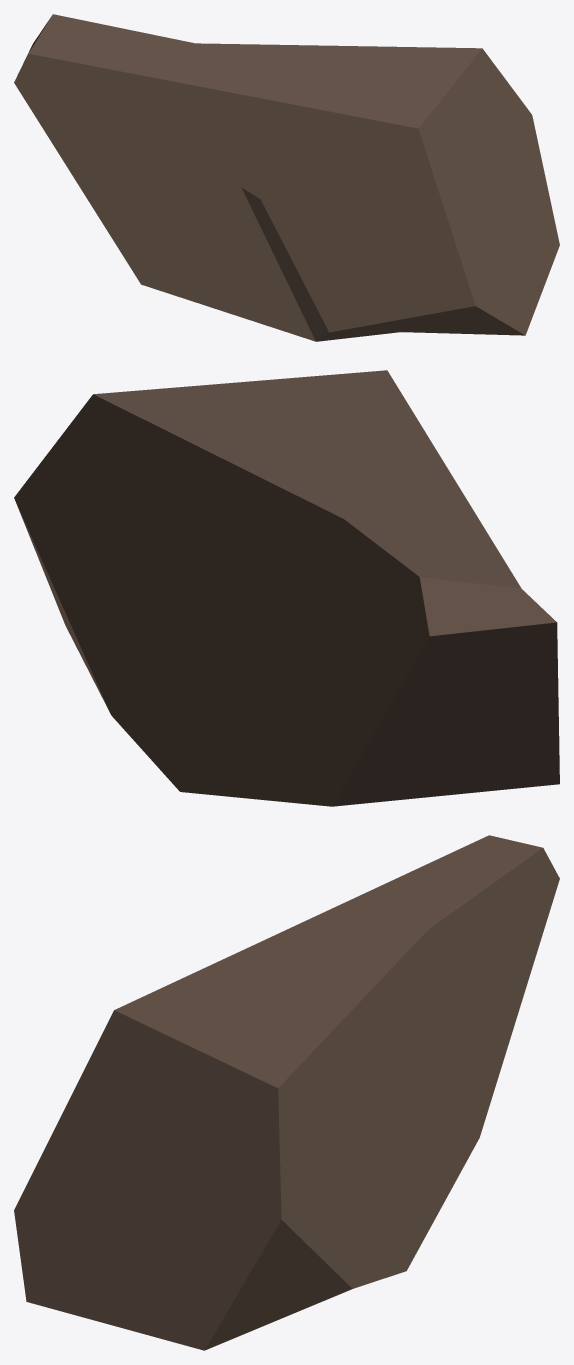
The model's file is stone06.fbx.
3 renders of one model, top to bottom at view 1: azimuth 30°, elevation 25°; view 2: azimuth 150°, elevation 25°; view 3: azimuth 270°, elevation 25°, orthographic. The views are drawn at different scales.
Parts seen in each view (by area): view 1: stone06; view 2: stone06; view 3: stone06.
Part boxes in pixels (x1,y1,x2,y2): stone06: [14, 14, 559, 341]; stone06: [14, 370, 559, 806]; stone06: [14, 835, 559, 1350].
Size of the model in its own units: 1.95 by 1.68 by 1.02.
